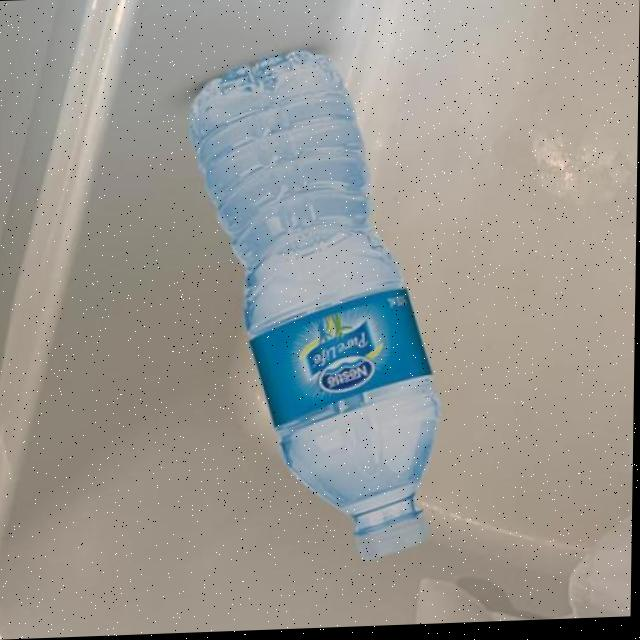bottle: (181, 46, 448, 570)
